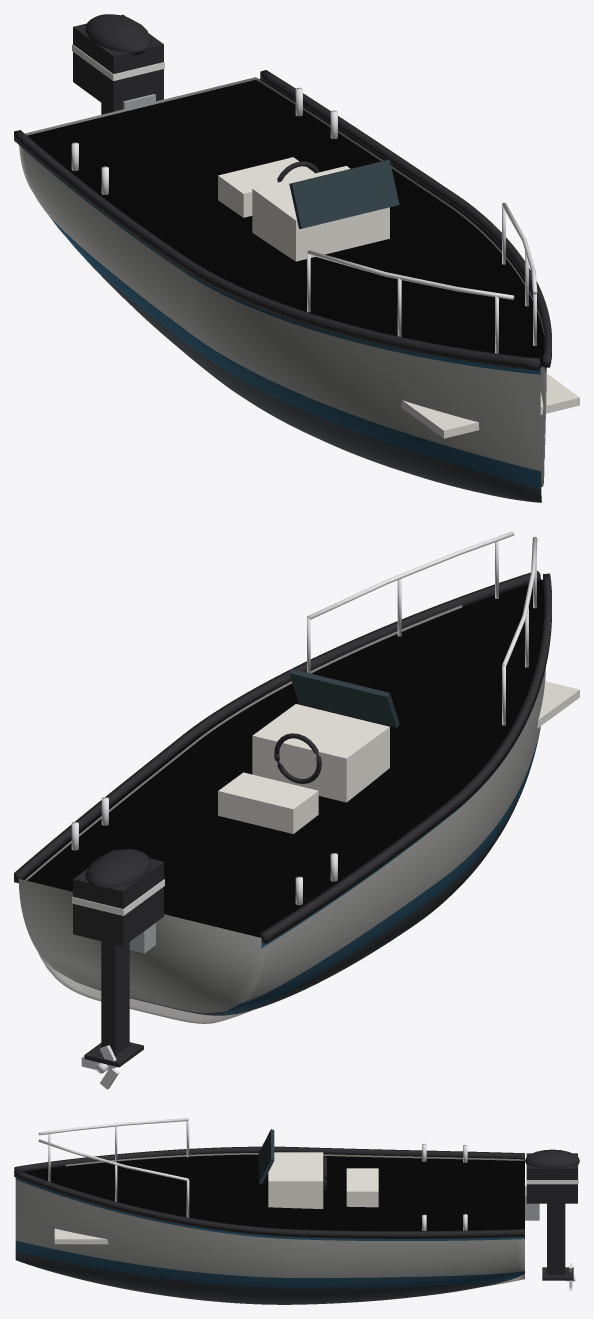
Rendered from skiff.glb.
The picture shows the model from 3 angles, top to bottom: view 1: azimuth 30°, elevation 25°; view 2: azimuth 150°, elevation 25°; view 3: azimuth 270°, elevation 25°; orthographic projection. The views are drawn at different scales.
Visible parts, largest first — view 1: WaterMask, Hull, Rubrail.001, Console, Windscreen, Cowling, Rubrail, LeanPost, CastDeck, InnerShell, CowlingLid, BowRail.001 (+1 smaller); view 2: WaterMask, Hull, Console, Rubrail, Rubrail.001, Cowling, LeanPost, Windscreen, Leg, InnerShell, CowlingLid, BowRail (+3 smaller); view 3: Hull, WaterMask, Rubrail, Rubrail.001, Console, Cowling, Leg, LeanPost, InnerShell, CowlingLid, Windscreen, CastDeck (+5 smaller).
Part boxes in pixels (<box>): WaterMask: <box>27,79,544,366</box>; Hull: <box>19,145,546,502</box>; Rubrail.001: <box>14,130,541,370</box>; Console: <box>252,166,389,261</box>; Windscreen: <box>289,159,399,228</box>; Cowling: <box>73,14,163,111</box>; Rubrail: <box>260,70,551,367</box>; LeanPost: <box>218,157,314,217</box>; CastDeck: <box>401,373,579,438</box>; InnerShell: <box>25,77,544,486</box>; CowlingLid: <box>85,14,151,55</box>; BowRail.001: <box>307,250,514,299</box>; WaterMask: <box>23,579,544,937</box>; Hull: <box>18,667,545,1015</box>; Console: <box>252,704,389,802</box>; Rubrail: <box>14,571,540,883</box>; Rubrail.001: <box>260,573,551,943</box>; Cowling: <box>73,849,163,946</box>; LeanPost: <box>218,772,318,833</box>; Windscreen: <box>289,669,399,727</box>; Leg: <box>101,941,129,1055</box>; InnerShell: <box>25,605,462,1023</box>; CowlingLid: <box>85,849,151,890</box>; BowRail: <box>307,531,514,619</box>; Hull: <box>15,1177,524,1304</box>; WaterMask: <box>24,1154,524,1230</box>; Rubrail: <box>14,1169,524,1238</box>; Rubrail.001: <box>14,1146,524,1172</box>; Console: <box>268,1152,323,1208</box>; Cowling: <box>526,1153,577,1203</box>; Leg: <box>547,1203,565,1274</box>; LeanPost: <box>346,1168,378,1207</box>; InnerShell: <box>65,1153,524,1286</box>; CowlingLid: <box>525,1149,579,1168</box>; Windscreen: <box>258,1129,274,1184</box>; CastDeck: <box>54,1228,108,1244</box>.
Bounding box in the file's own units: 2.17 × 1.87 × 6.17.
